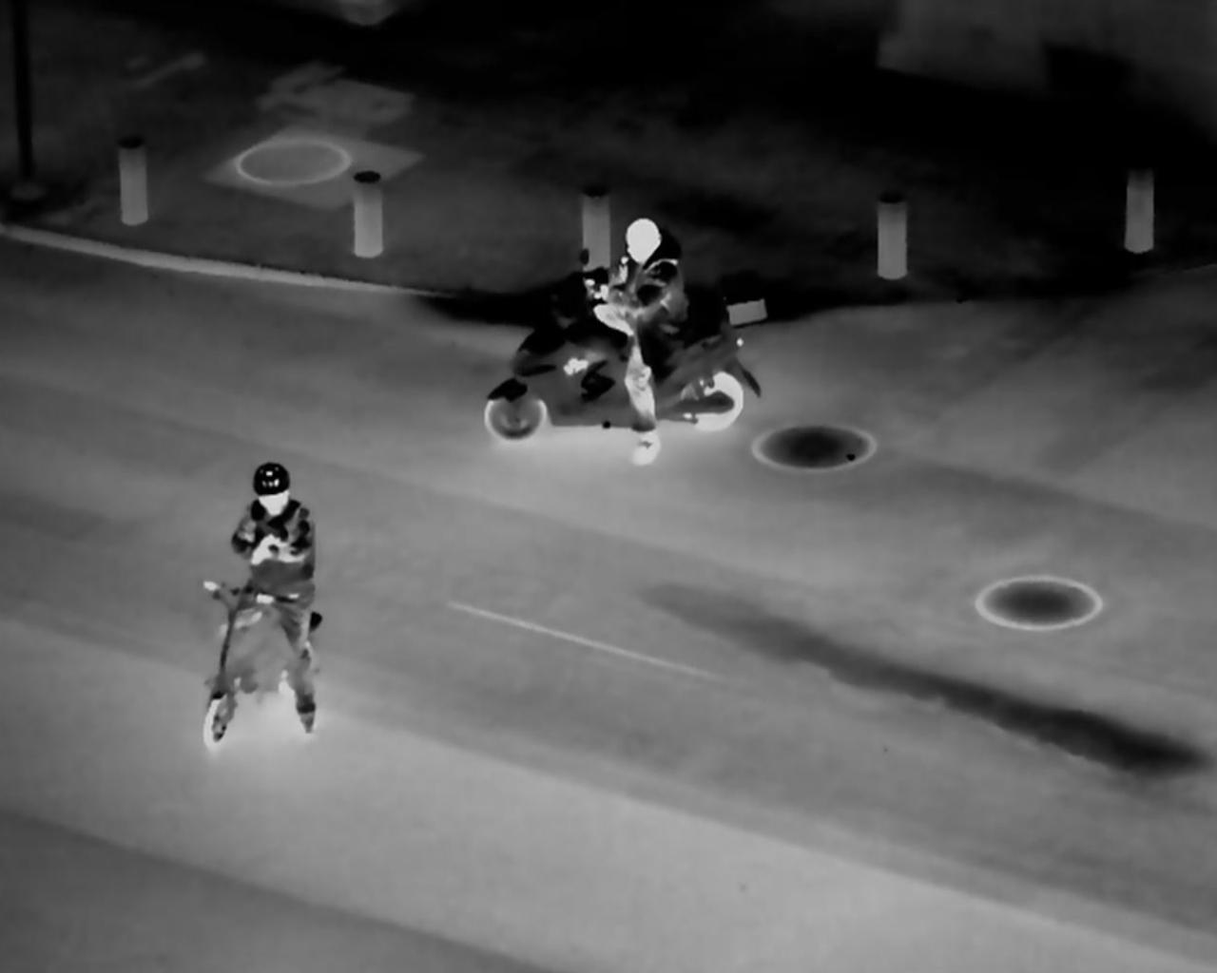person: (212, 450, 341, 756), (571, 200, 690, 483)
